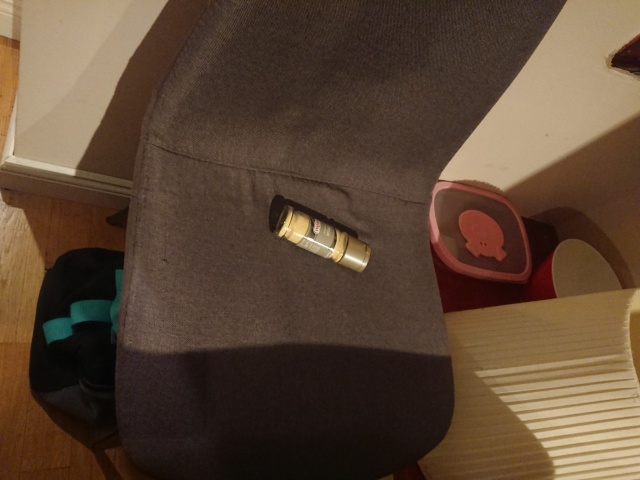Kotanyi Garlic Granules 70g: (272, 203, 374, 276)
